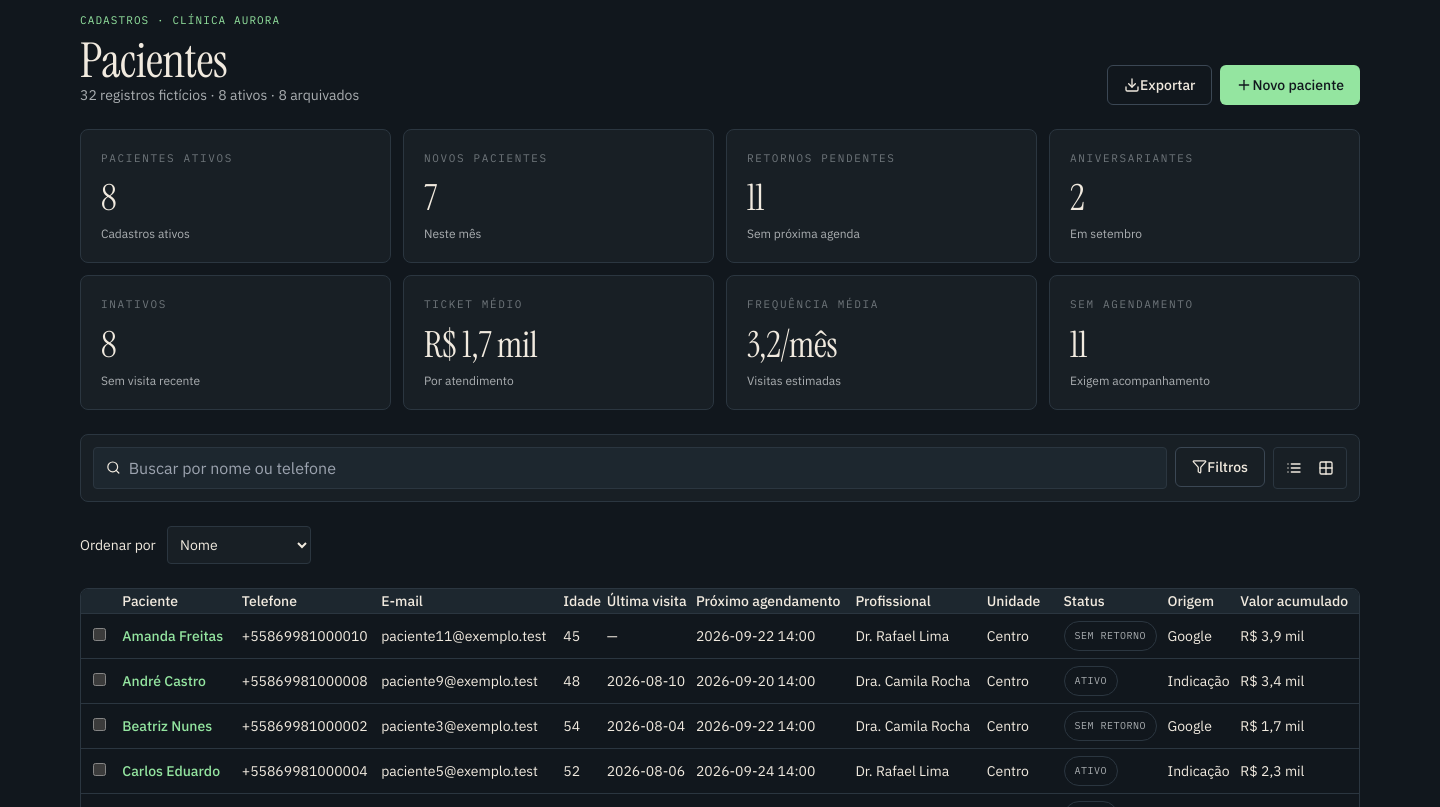
Scenario: static modules › filters fictional patients by name and phone
The width and height of the screenshot is (1440, 807).
In the field with placeholder "Buscar por nome ou telefone": [641, 468] box [129,448,1154,488], type "Marina"
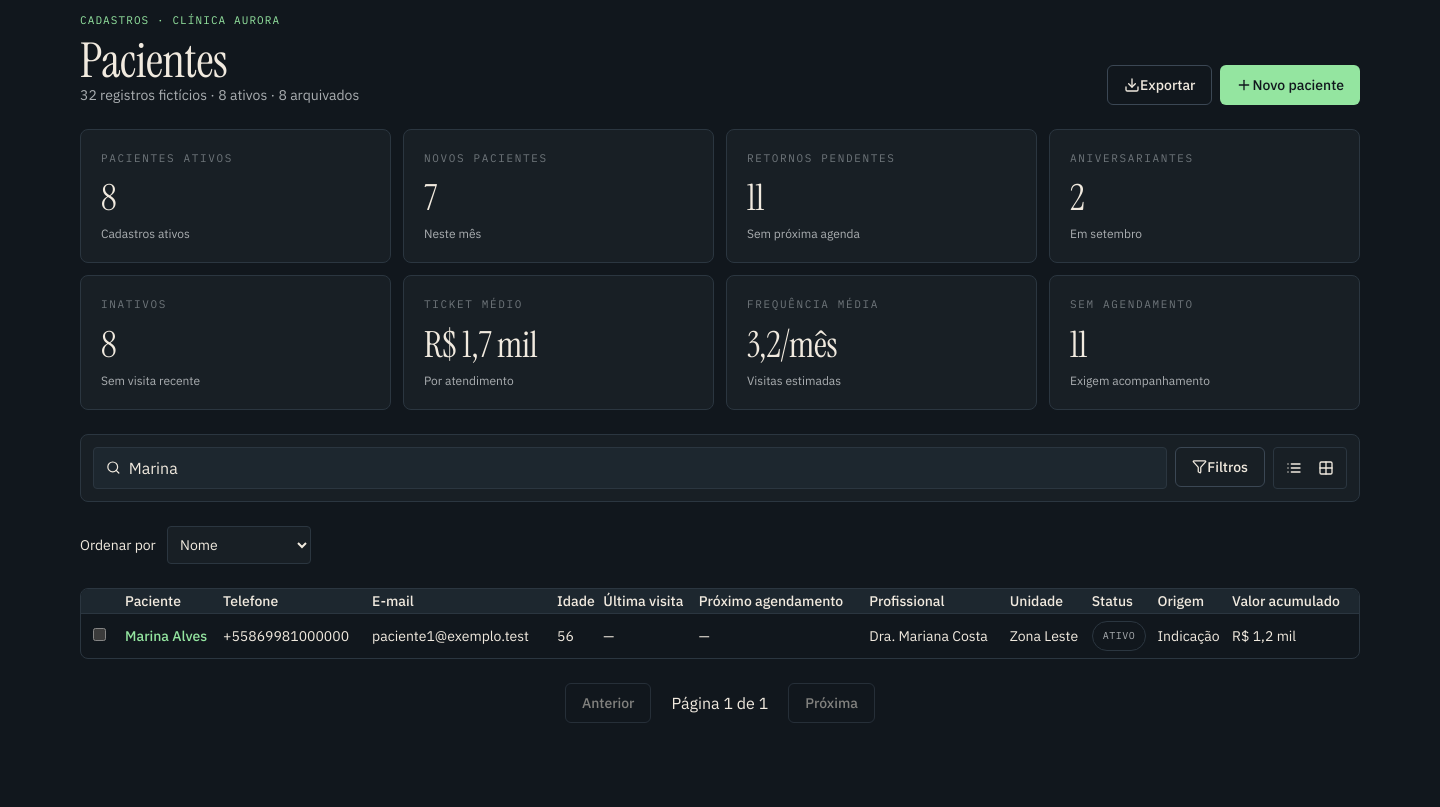
Check: the text "João Pedro Lima" is not shown
Check: the link "Marina Alves" is shown, box [125,626,207,644]
Replace the text in the field with placeholder "Buscar por nome ou telefone" with "992223344": [641, 468] box [129,448,1154,488]
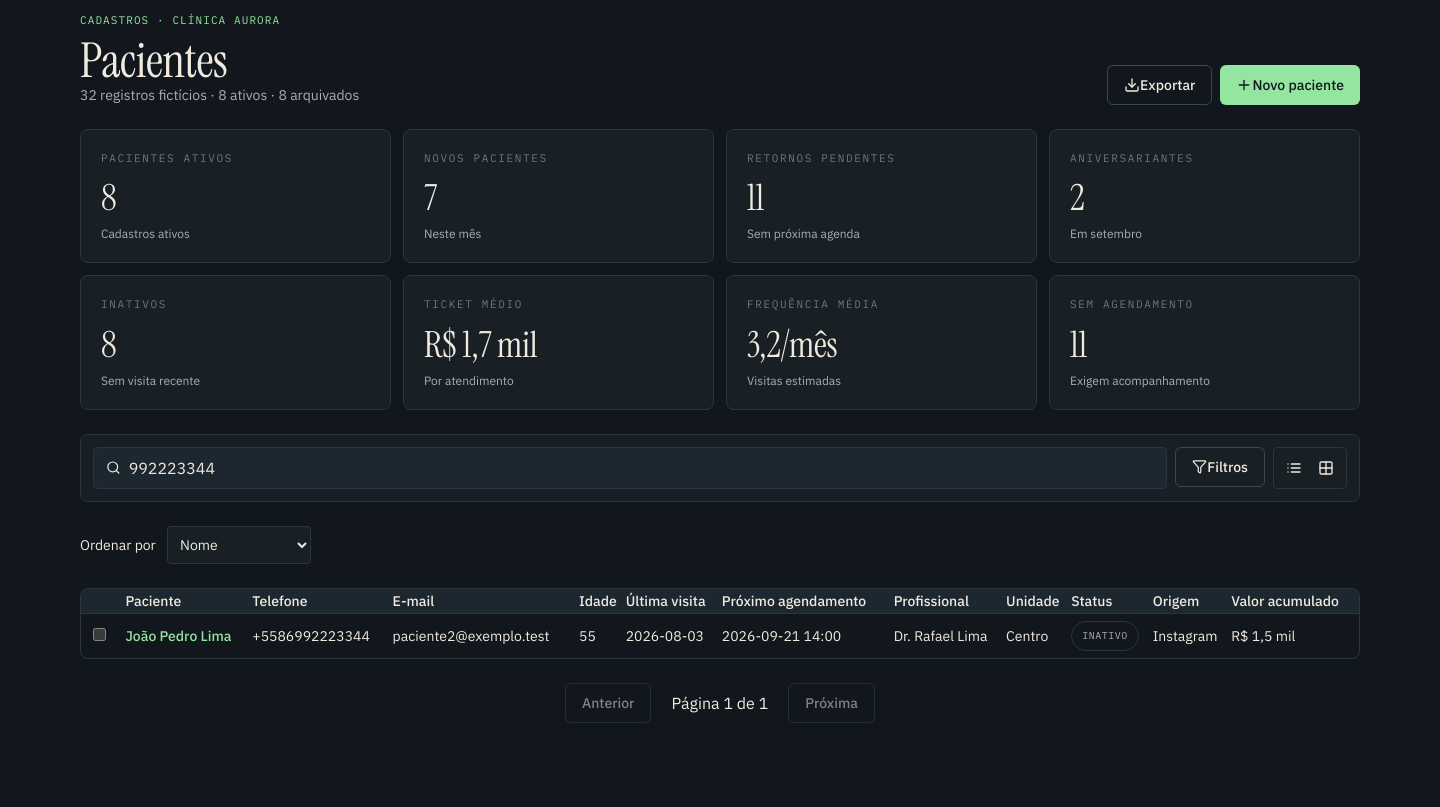
Check: the link "João Pedro Lima" is shown, box [125,626,232,644]
